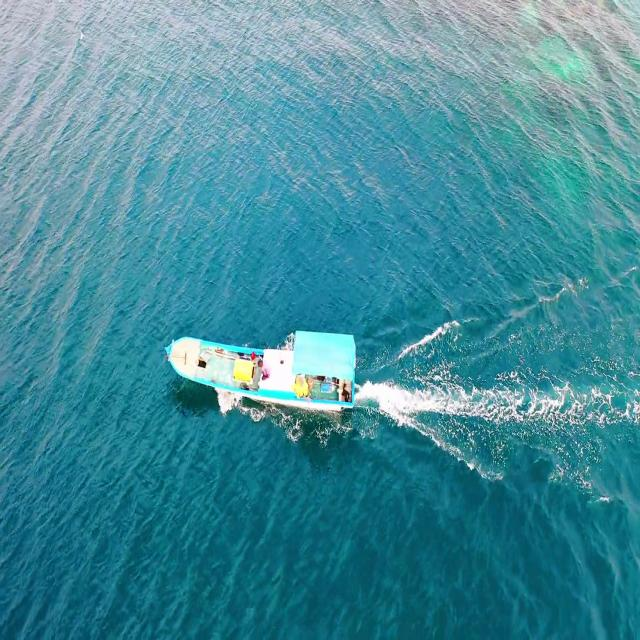ship: (154, 322, 364, 419)
